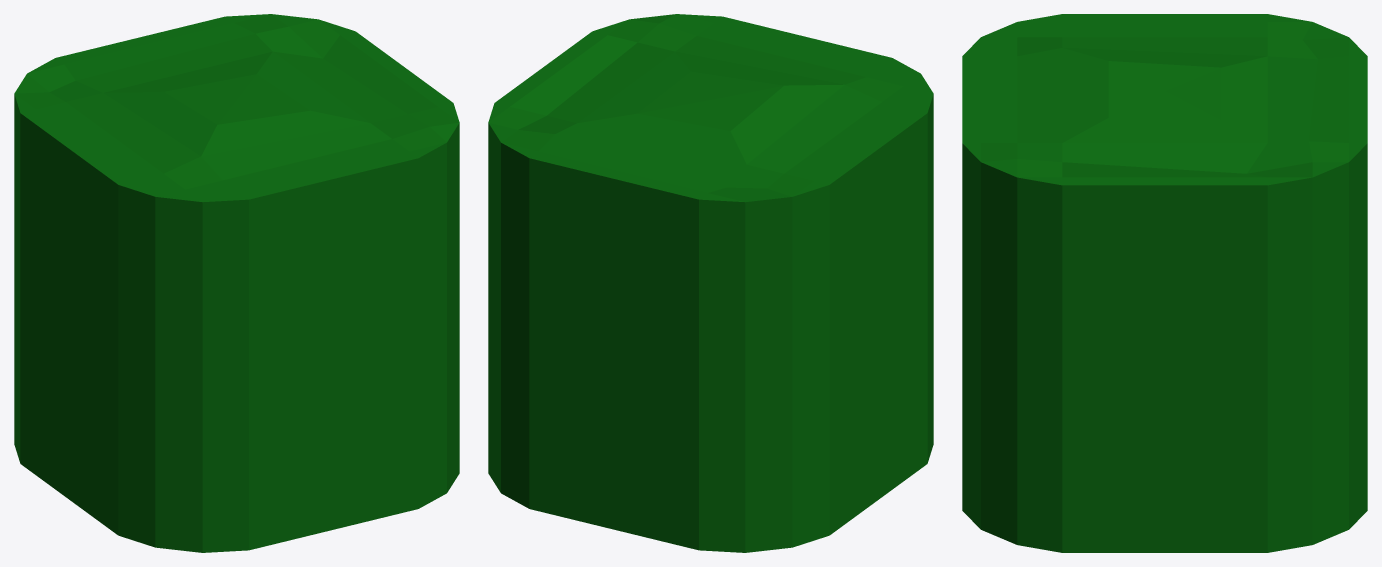
File: Bush01.fbx
The picture shows the model from 3 angles, left to right: view 1: azimuth 30°, elevation 25°; view 2: azimuth 150°, elevation 25°; view 3: azimuth 270°, elevation 25°; orthographic projection. The views are drawn at different scales.
Visible parts, largest first — view 1: Bush01; view 2: Bush01; view 3: Bush01.
Boxes of the visible parts, x1,y1,x2,y2 form: Bush01: (14,14,459,552); Bush01: (488,14,933,552); Bush01: (962,14,1367,552).
Size of the model in its own units: 100 by 104 by 100.
